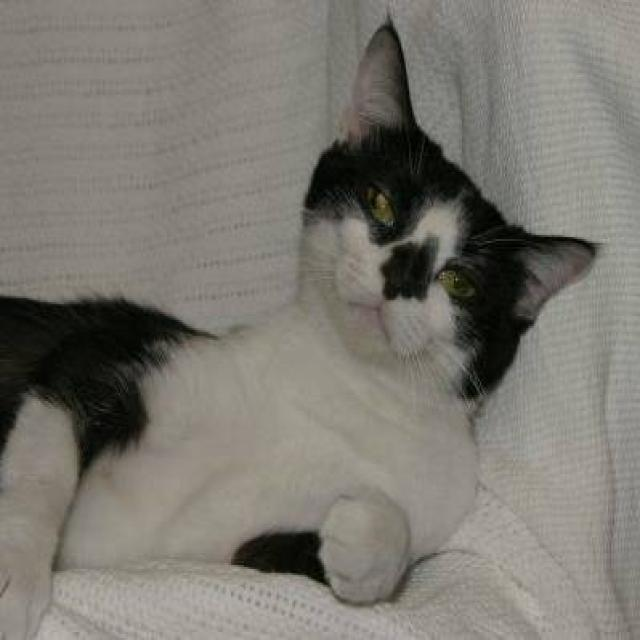cat: (0, 20, 600, 638)
